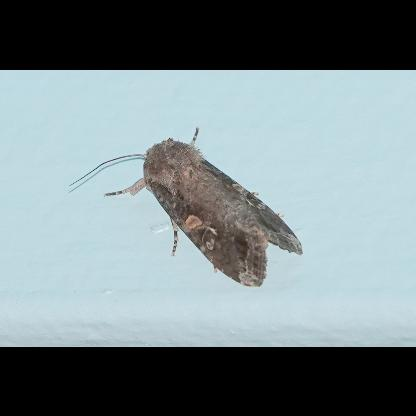Fall Armyworm Moth: (67, 124, 305, 288)
